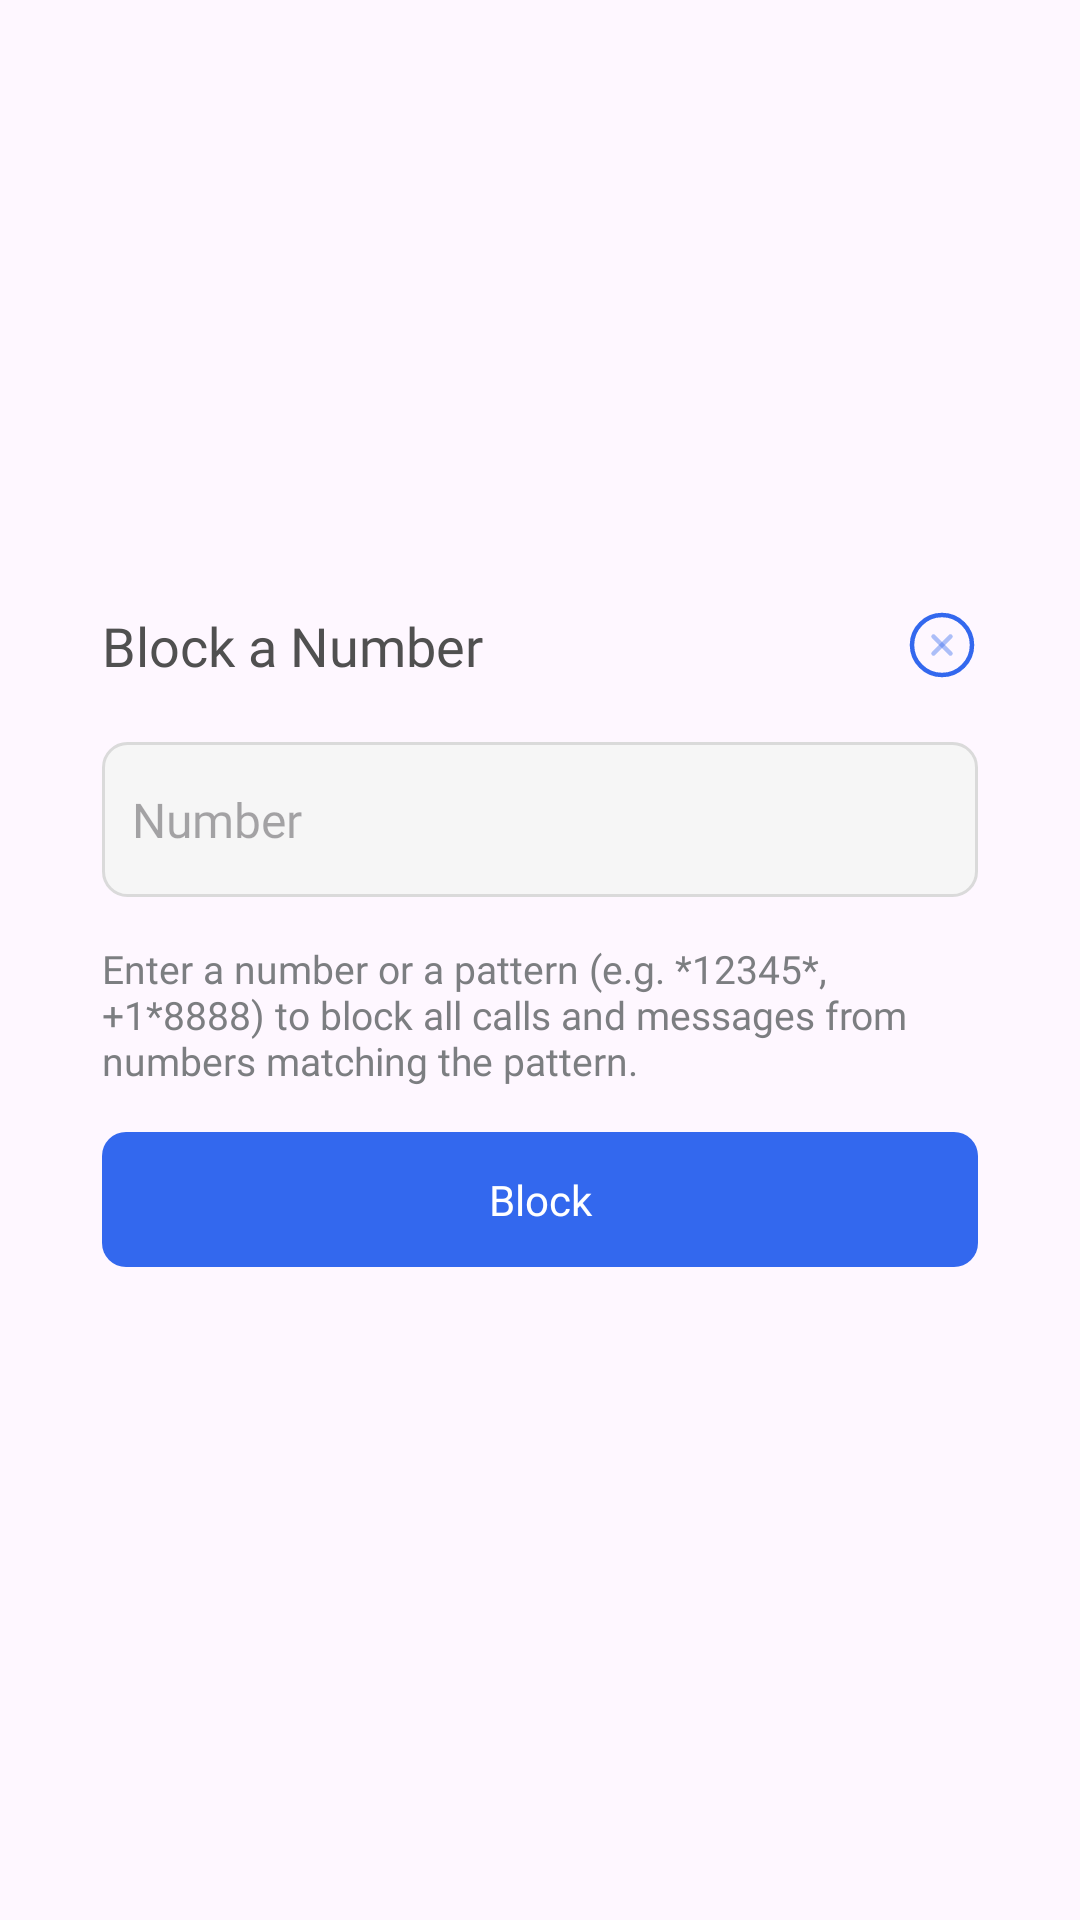

Icons on this 1080 x 1920 Android screen, each with the point to tap as (x=x, y=y):
clip clear block: (x=942, y=645)
